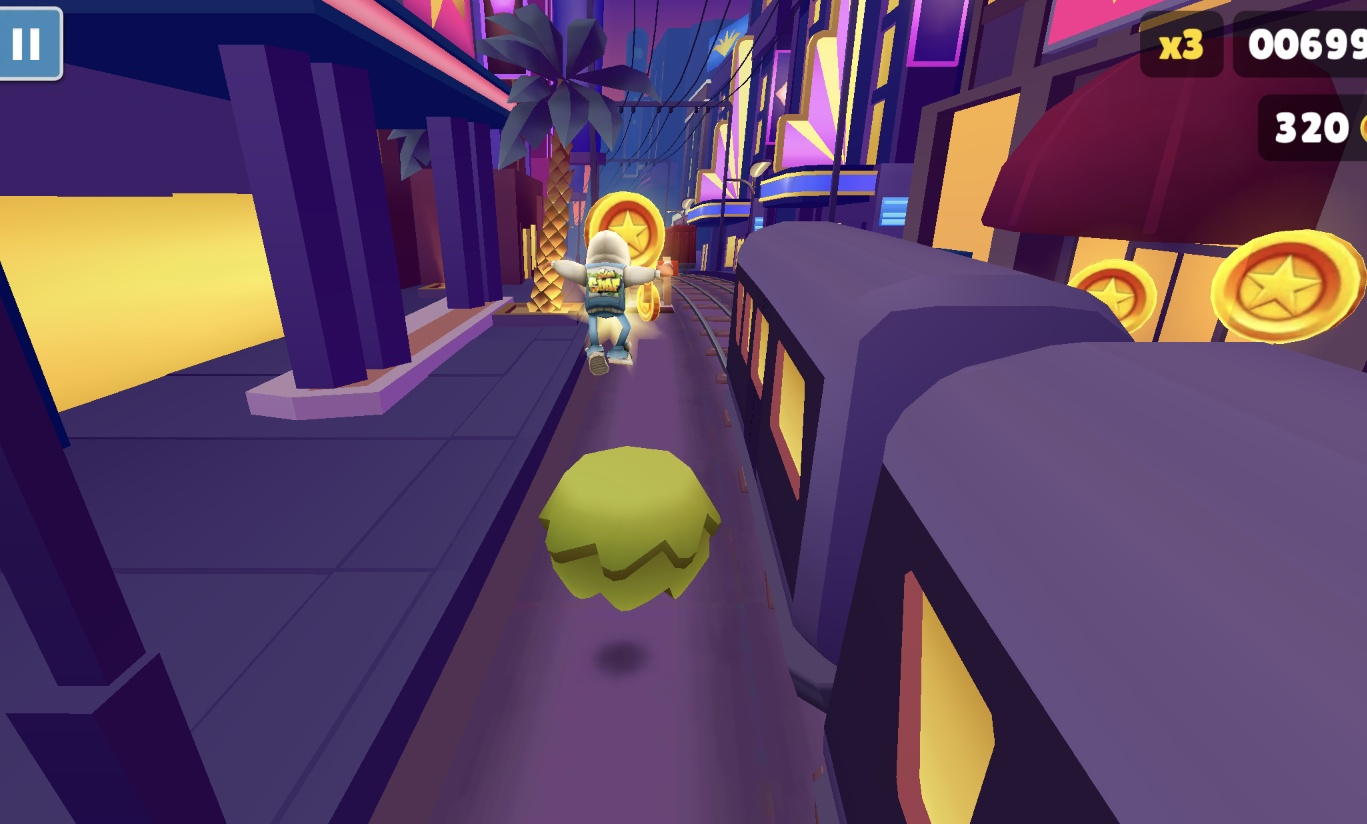bush: (539, 446, 722, 612)
ground_barrier: (653, 259, 680, 312)
train: (729, 220, 1367, 824), (660, 224, 699, 274)
